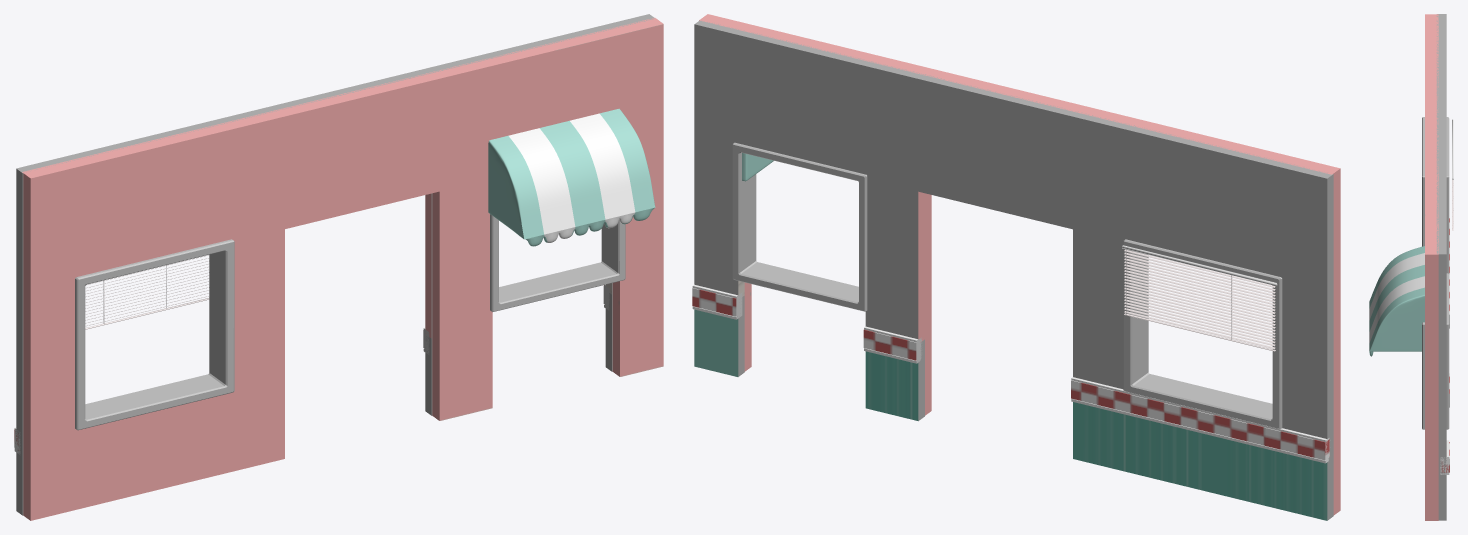
The model's file is front_wall_combine.fbx.
3 renders of one model, left to right at view 1: azimuth 30°, elevation 25°; view 2: azimuth 150°, elevation 25°; view 3: azimuth 270°, elevation 25°, orthographic. The views are drawn at different scales.
Parts seen in each view (by area): view 1: pCube22; view 2: pCube22; view 3: pCube22.
Boxes of the visible parts, bbox=[...] form: pCube22: bbox=[14, 14, 663, 520]; pCube22: bbox=[692, 14, 1340, 520]; pCube22: bbox=[1369, 14, 1453, 520].
Bounding box in the file's own units: 1680 × 867 × 249.
